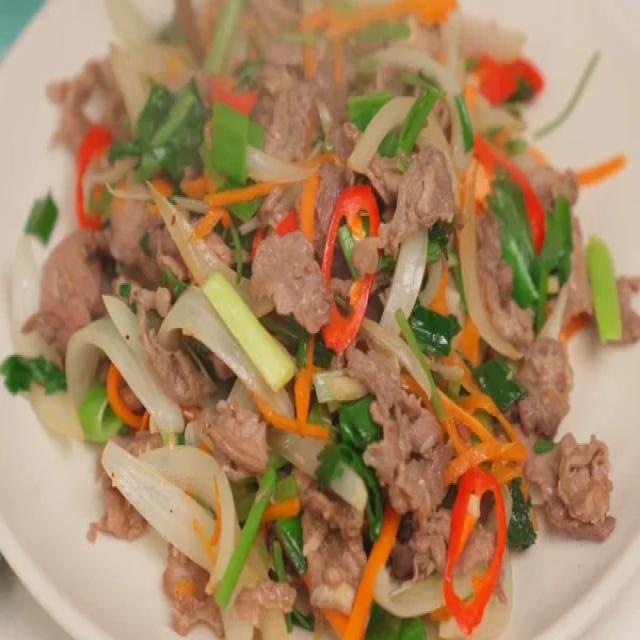bo xao: (3, 183, 457, 638), (307, 52, 639, 537)
ot: (444, 467, 507, 634), (322, 184, 380, 352)
